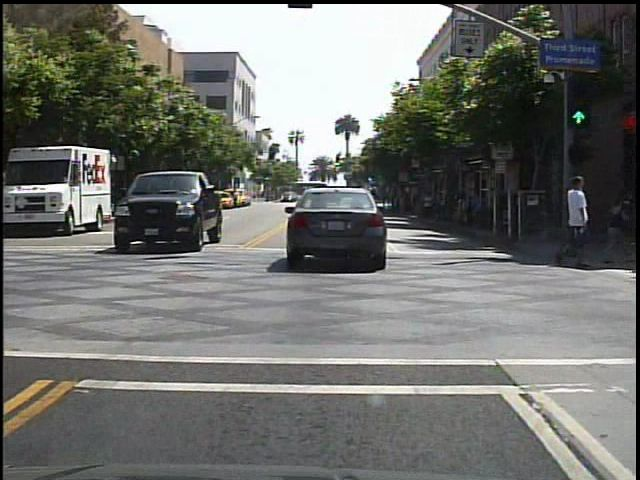person: (558, 163, 598, 271), (571, 173, 603, 264), (418, 189, 437, 223)
